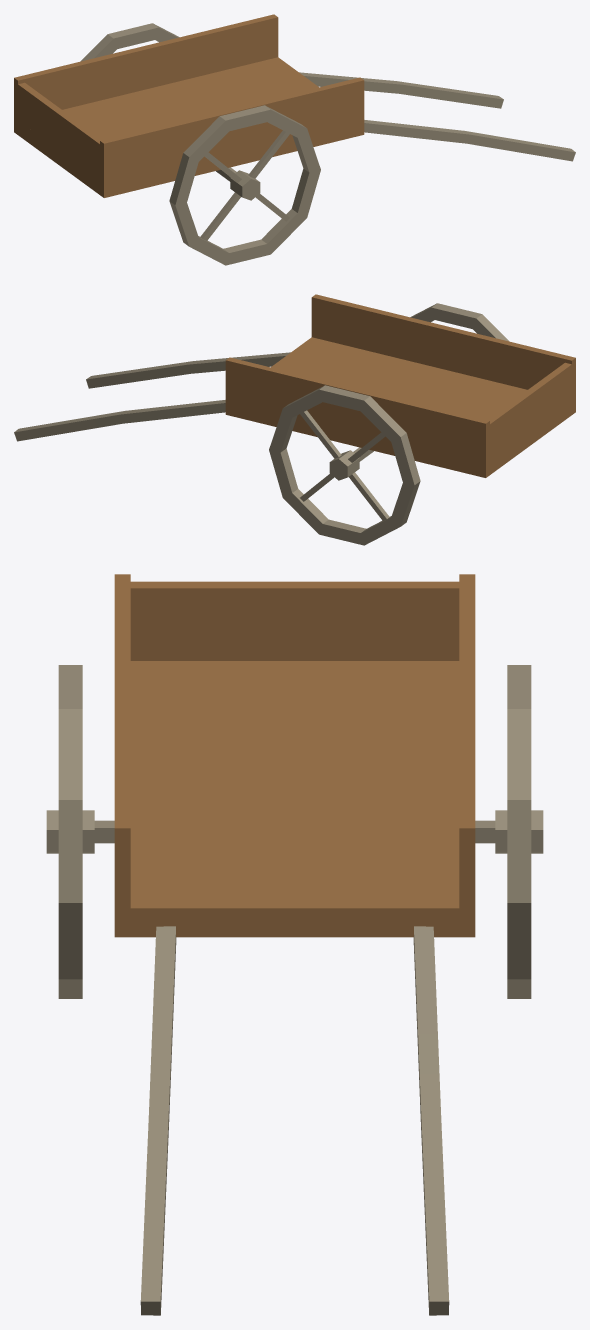
Rendered from FarmCart.fbx.
The picture shows the model from 3 angles, top to bottom: view 1: azimuth 30°, elevation 25°; view 2: azimuth 150°, elevation 25°; view 3: azimuth 270°, elevation 25°; orthographic projection. The views are drawn at different scales.
Visible parts, largest first — view 1: FarmCart; view 2: FarmCart; view 3: FarmCart.
Boxes of the visible parts, bbox=[...] form: FarmCart: bbox=[14, 14, 575, 265]; FarmCart: bbox=[14, 294, 575, 545]; FarmCart: bbox=[46, 574, 543, 1315].
Bounding box in the file's own units: 2.76 × 0.8026 × 1.24.
